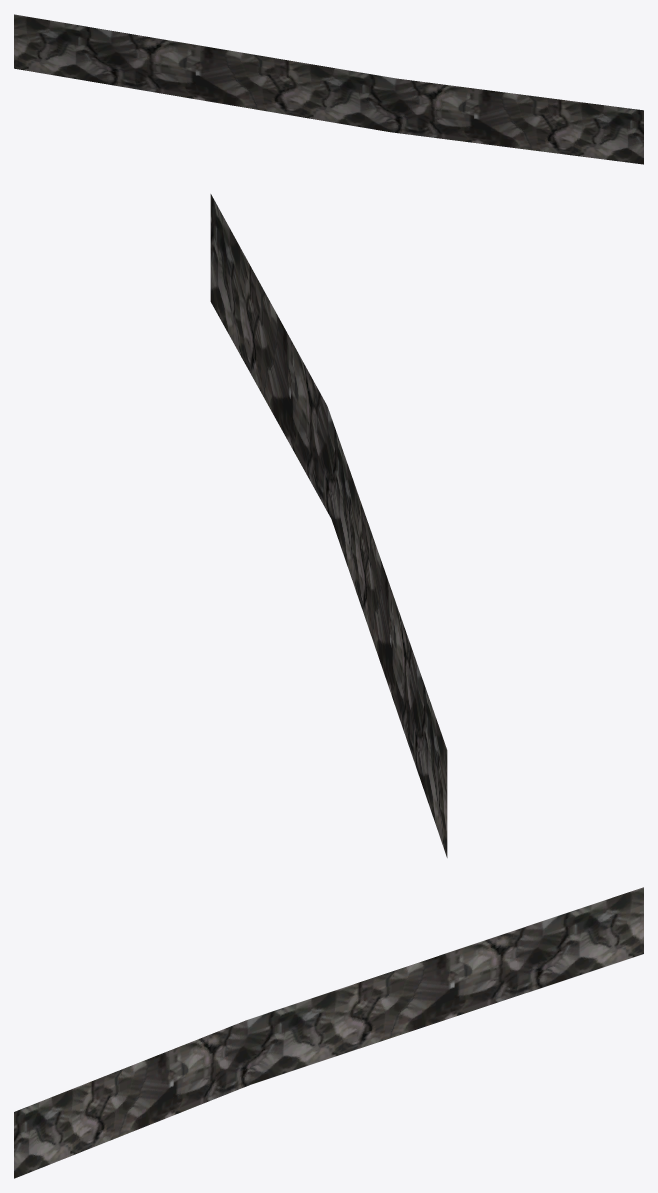
Rendered from CH09_SMAUG_PLAYSURFACE_LAIR56.fbx.
3 views of the same model, one above another, from view 1: azimuth 30°, elevation 25°; view 2: azimuth 150°, elevation 25°; view 3: azimuth 270°, elevation 25° (orthographic). The views are drawn at different scales.
Parts seen in each view (by area): view 1: CH09_SMAUG_PLAYSURFACE_LAIR56; view 2: CH09_SMAUG_PLAYSURFACE_LAIR56; view 3: CH09_SMAUG_PLAYSURFACE_LAIR56.
Part boxes in pixels (x1,y1,x2,y2): CH09_SMAUG_PLAYSURFACE_LAIR56: (14,14,643,164); CH09_SMAUG_PLAYSURFACE_LAIR56: (210,194,447,857); CH09_SMAUG_PLAYSURFACE_LAIR56: (14,887,643,1178).
Size of the model in its own units: 44083 by 6106 by 52199.
Materials: 1 (1 with a texture image).
